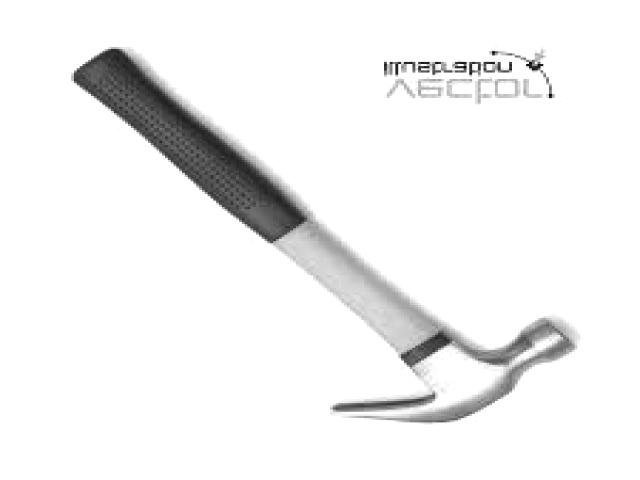Hammer: (78, 50, 574, 421)
